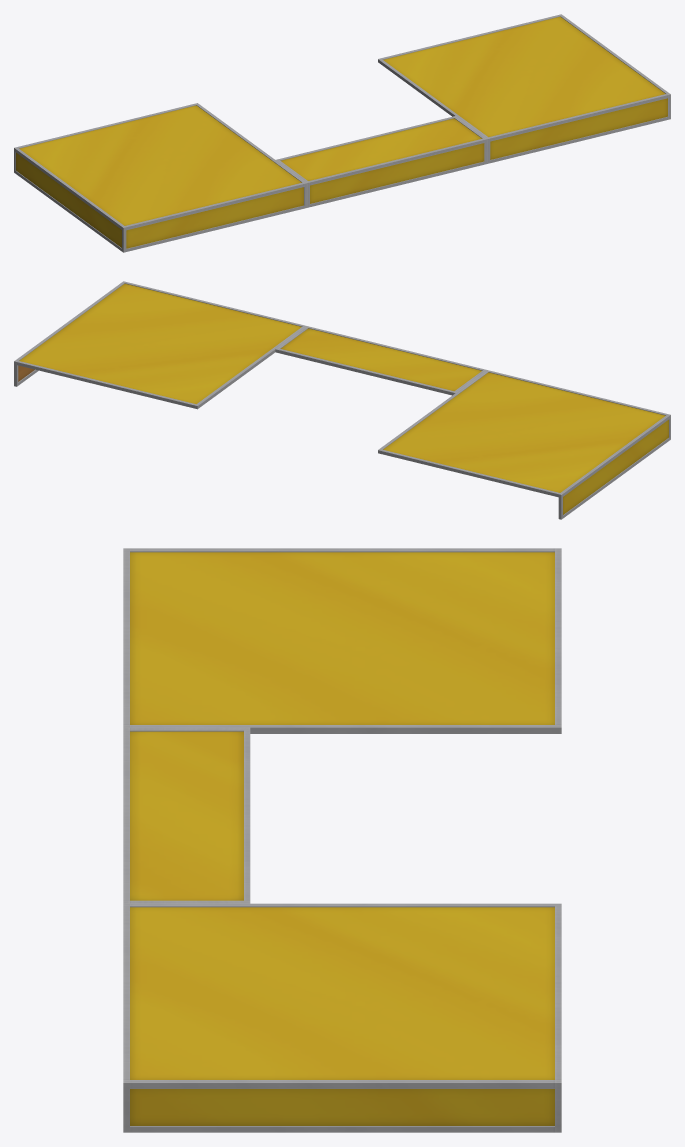
File: jsf_2P_s03_c03_t02_DX.fbx
The picture shows the model from 3 angles, top to bottom: view 1: azimuth 30°, elevation 25°; view 2: azimuth 150°, elevation 25°; view 3: azimuth 270°, elevation 25°; orthographic projection. The views are drawn at different scales.
Parts seen in each view (by area): view 1: jsf_2P_s03_c03_t02_DX; view 2: jsf_2P_s03_c03_t02_DX; view 3: jsf_2P_s03_c03_t02_DX.
Part boxes in pixels (<box>): jsf_2P_s03_c03_t02_DX: <box>14,14,670,252</box>; jsf_2P_s03_c03_t02_DX: <box>14,281,670,519</box>; jsf_2P_s03_c03_t02_DX: <box>123,548,561,1132</box>.
Bounding box in the file's own units: 289 × 12.51 × 100.
